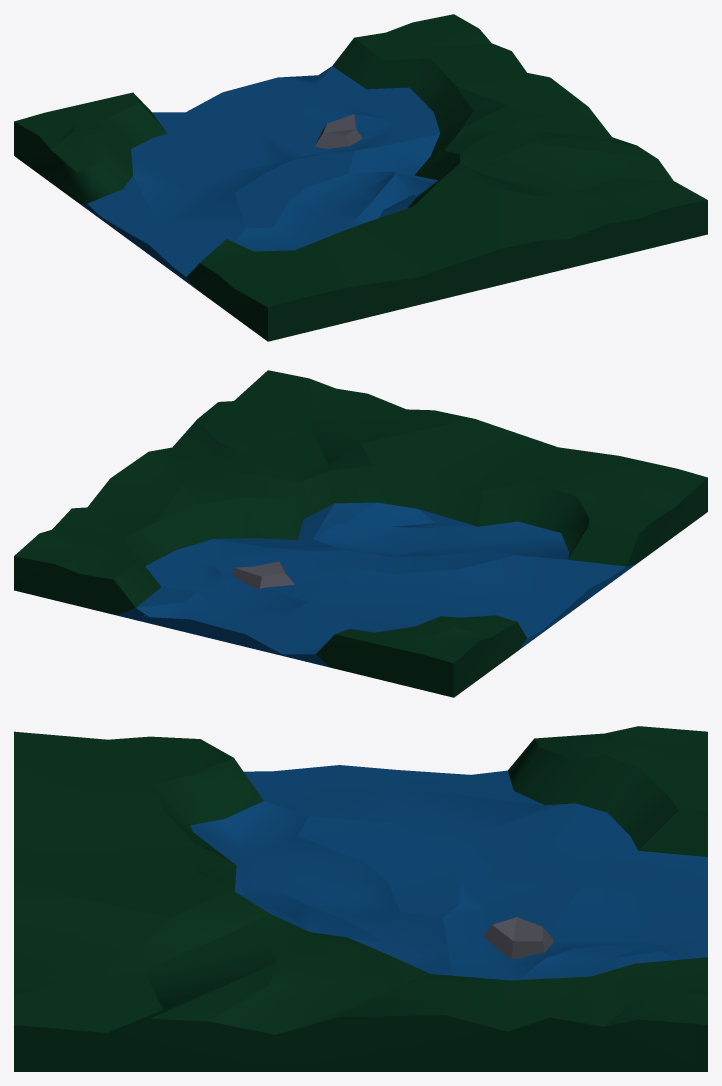
The model's file is Water_Turn_RB.fbx.
The picture shows the model from 3 angles, top to bottom: view 1: azimuth 30°, elevation 25°; view 2: azimuth 150°, elevation 25°; view 3: azimuth 270°, elevation 25°; orthographic projection. The views are drawn at different scales.
Visible parts, largest first — view 1: Water_Turn_RB; view 2: Water_Turn_RB; view 3: Water_Turn_RB.
Boxes of the visible parts, x1=… form: Water_Turn_RB: x1=14, y1=14, x2=707, y2=341; Water_Turn_RB: x1=14, y1=370, x2=707, y2=697; Water_Turn_RB: x1=14, y1=726, x2=707, y2=1071.
Bounding box in the file's own units: 147 × 13.54 × 147.
